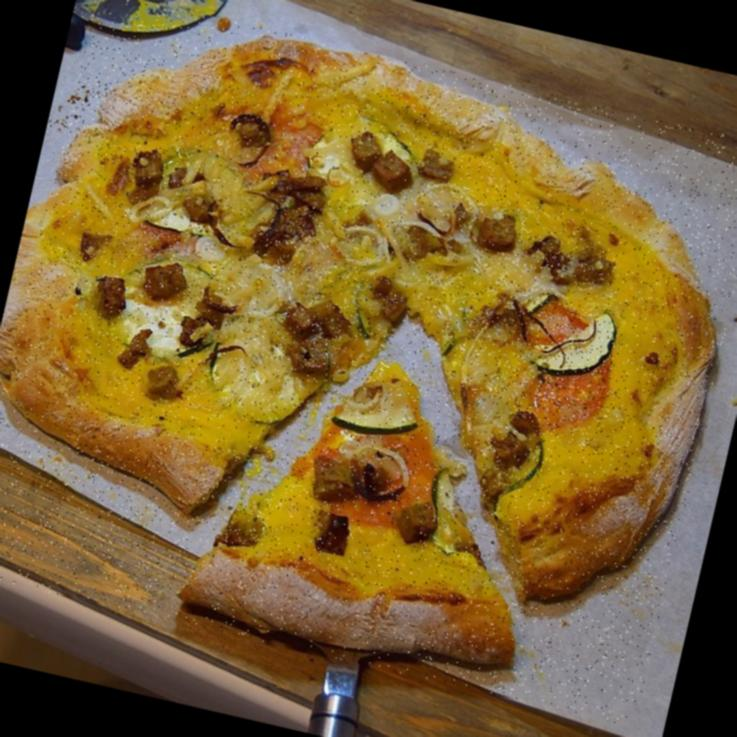Chicken: (81, 250, 227, 400), (266, 288, 351, 374), (255, 197, 322, 278), (530, 234, 619, 290), (488, 409, 552, 483), (341, 136, 416, 190), (261, 166, 332, 218), (308, 453, 362, 509), (219, 502, 266, 549), (472, 211, 522, 255), (314, 512, 357, 558), (129, 150, 170, 198), (395, 503, 440, 543), (232, 111, 274, 152), (186, 189, 224, 227), (420, 151, 458, 180)
Pizza: (0, 0, 737, 728)
Tomatoes: (304, 392, 460, 548), (482, 290, 627, 451), (220, 94, 337, 203)
